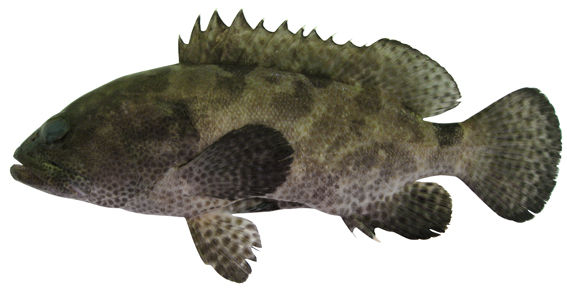fish: (10, 8, 562, 283)
